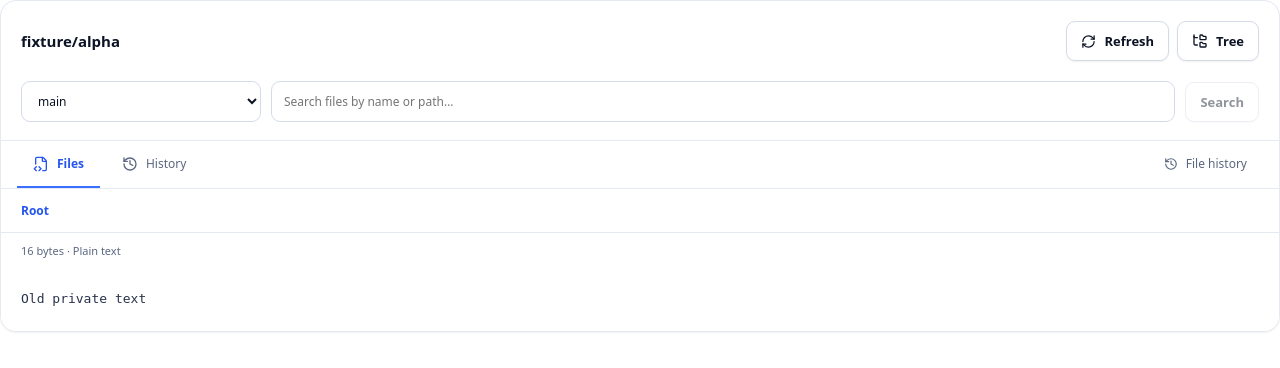
Test case: removes the previous file when Refresh fails instead of presenting it as current
Expected: the text "Old private text" is shown, x1=21 y1=291 x2=146 y2=306
Click the button "Refresh" at (1118, 41), box x1=1066 y1=21 x2=1169 y2=61
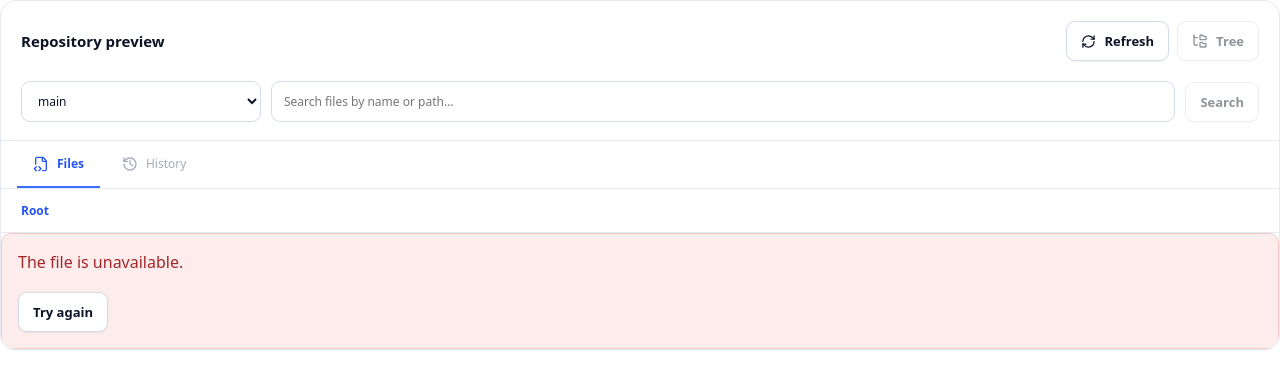
Expected: the message reads "The file is unavailable.", x1=18 y1=251 x2=183 y2=273
Expected: the text "Old private text" is gone
